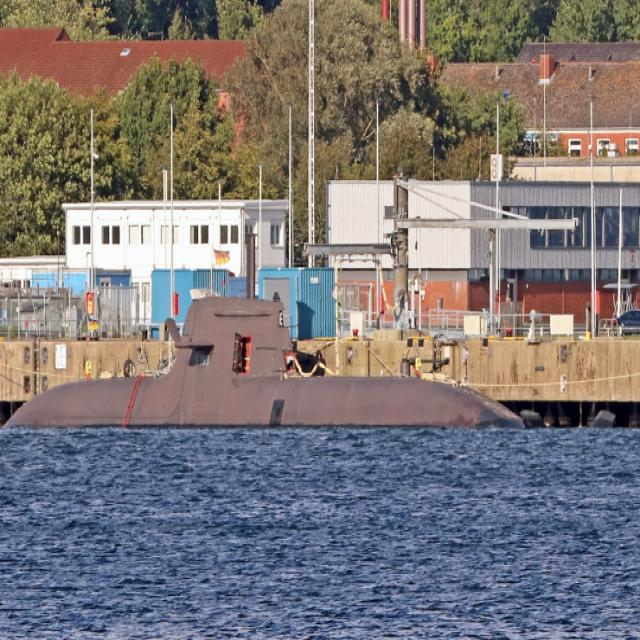submarine: (1, 191, 573, 443)
